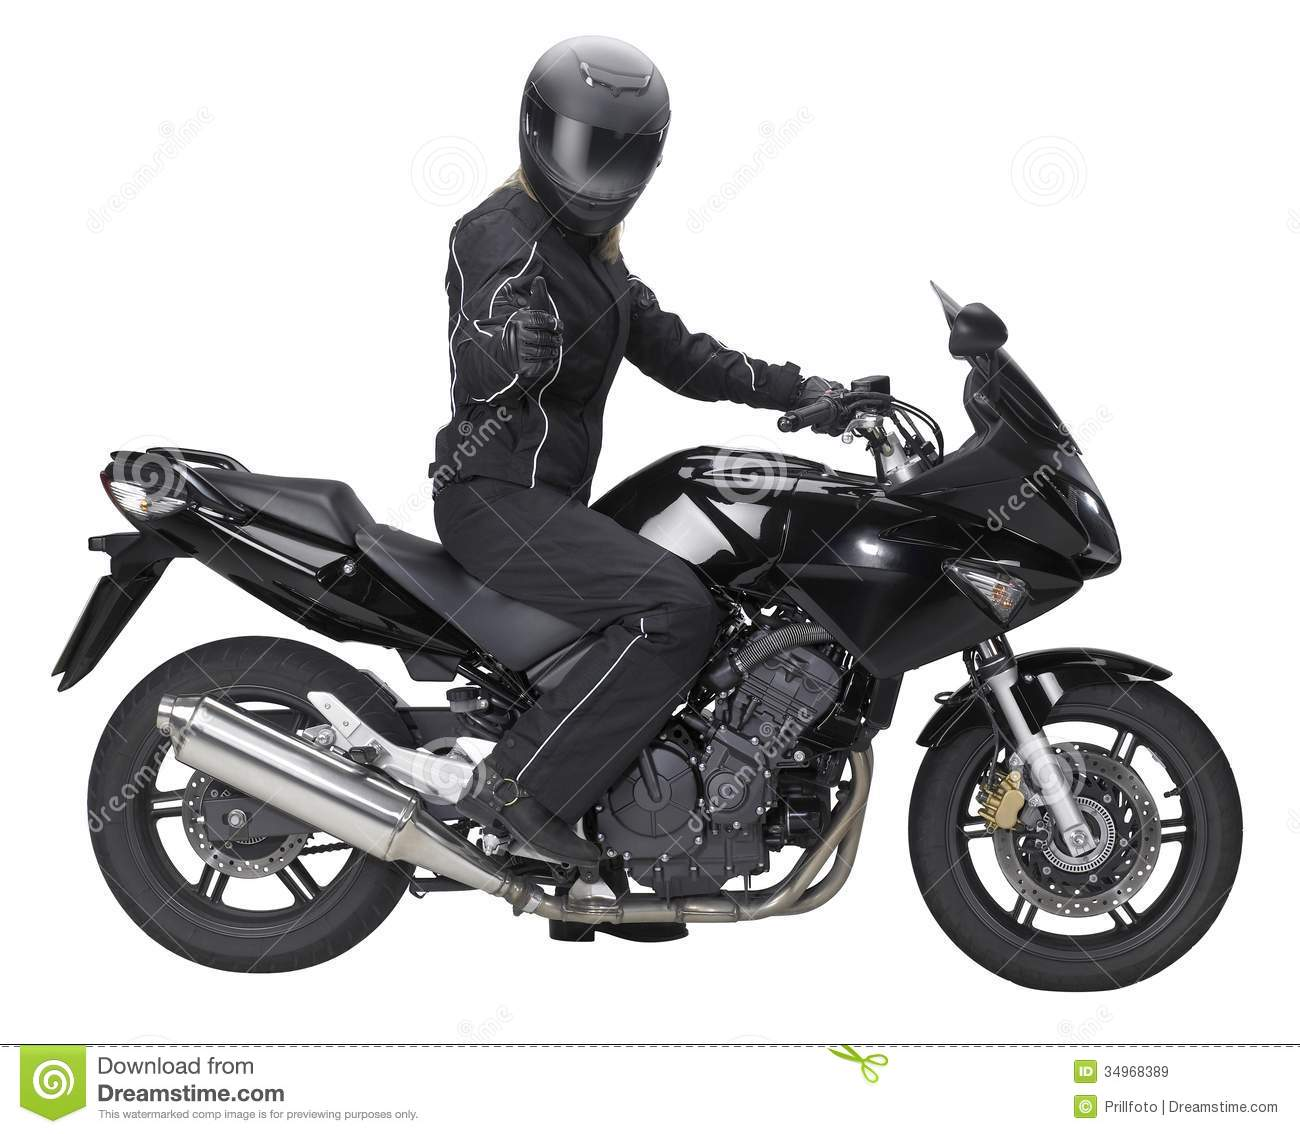helmet: (521, 36, 679, 243)
